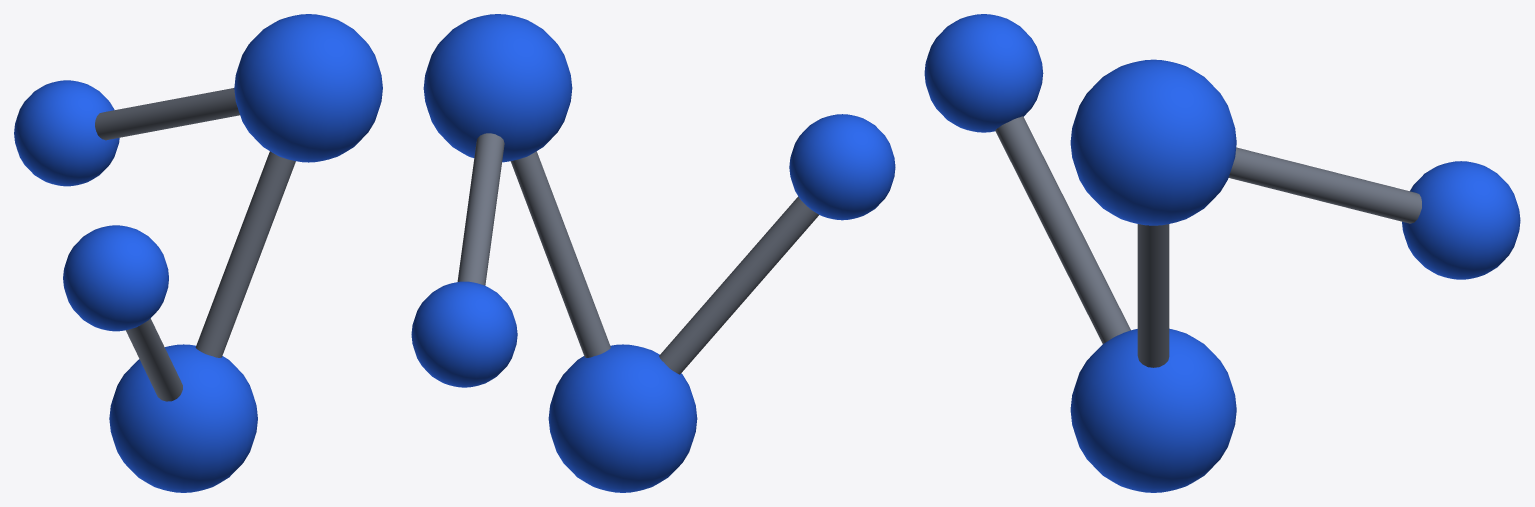
The picture shows the model from 3 angles, left to right: view 1: azimuth 30°, elevation 25°; view 2: azimuth 150°, elevation 25°; view 3: azimuth 270°, elevation 25°; orthographic projection. The views are drawn at different scales.
Visible parts, largest first — view 1: O2, O1, H1, H2, object 6, object 7, object 5; view 2: O1, O2, H1, H2, object 5, object 6, object 7; view 3: O2, O1, H1, H2, object 5, object 7, object 6.
Part boxes in pixels (box(x1,y1,x2,y2)): O2: box(234, 14, 382, 162); O1: box(109, 344, 257, 492); H1: box(63, 225, 168, 331); H2: box(14, 80, 119, 186); object 6: box(195, 151, 295, 357); object 7: box(95, 88, 239, 140); object 5: box(126, 318, 182, 401); O1: box(548, 344, 697, 492); O2: box(423, 14, 572, 162); H1: box(789, 114, 895, 220); H2: box(411, 281, 517, 387); object 5: box(659, 196, 818, 374); object 6: box(510, 151, 610, 357); object 7: box(457, 133, 504, 285); O2: box(1070, 59, 1236, 225); O1: box(1070, 328, 1236, 492); H1: box(924, 14, 1043, 132); H2: box(1402, 161, 1520, 279); object 5: box(995, 116, 1130, 343); object 7: box(1228, 147, 1421, 223); object 6: box(1137, 224, 1169, 367).
Size of the model in its own units: 0.2472 by 0.271 by 0.3011.
